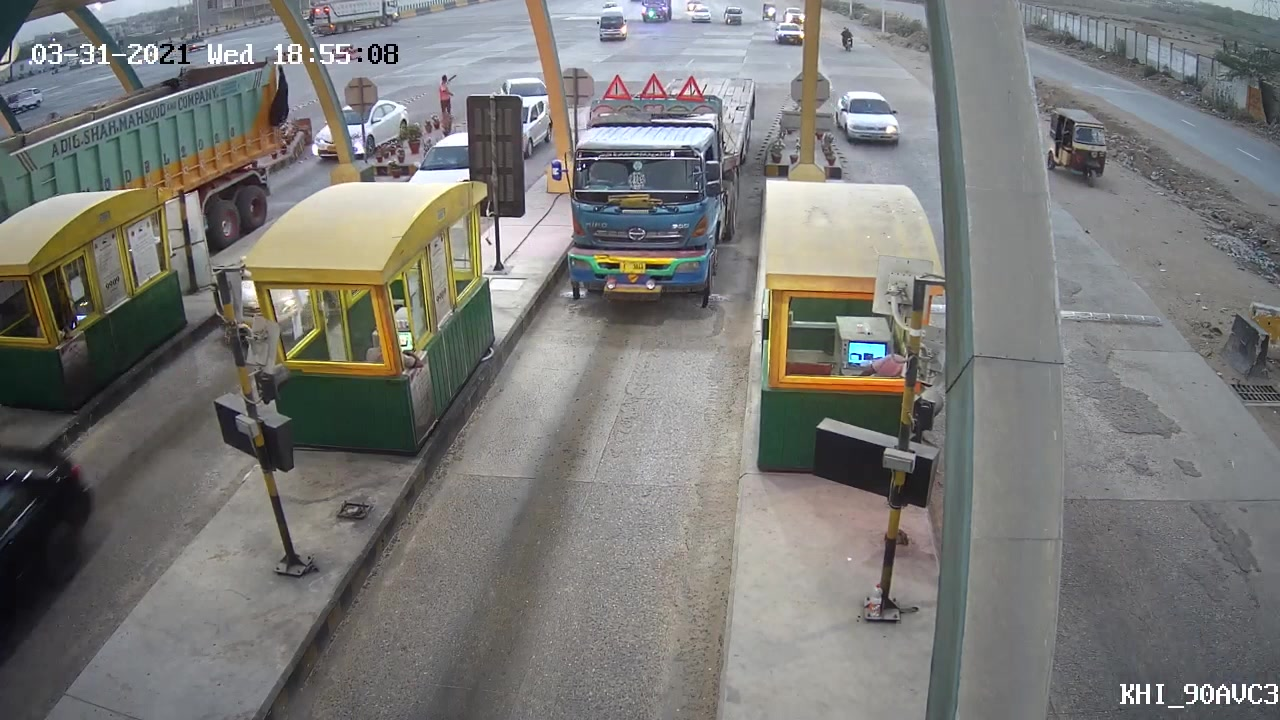F6: (548, 61, 761, 302)
